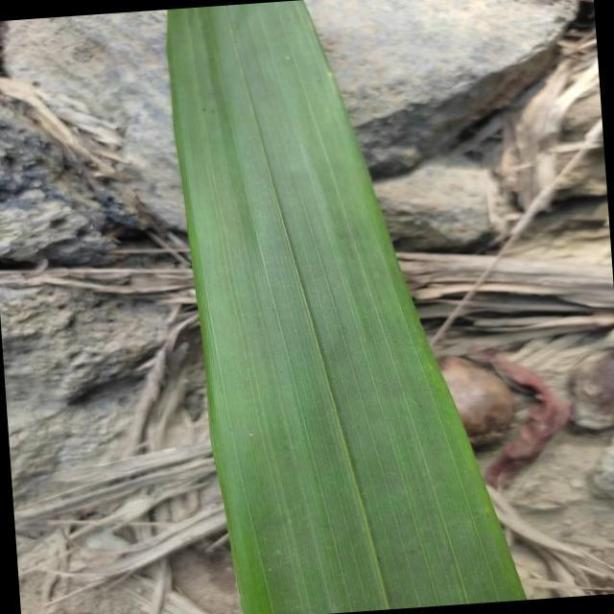Healthy: (166, 0, 527, 605)
